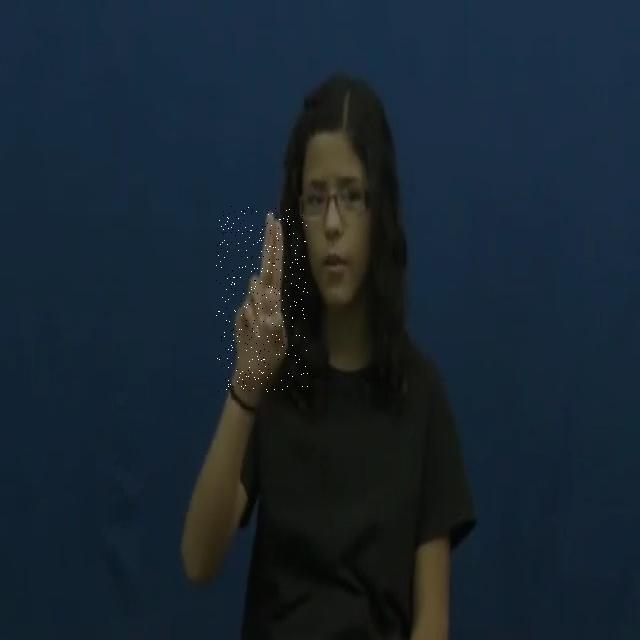yoghurt: (216, 206, 308, 392)
